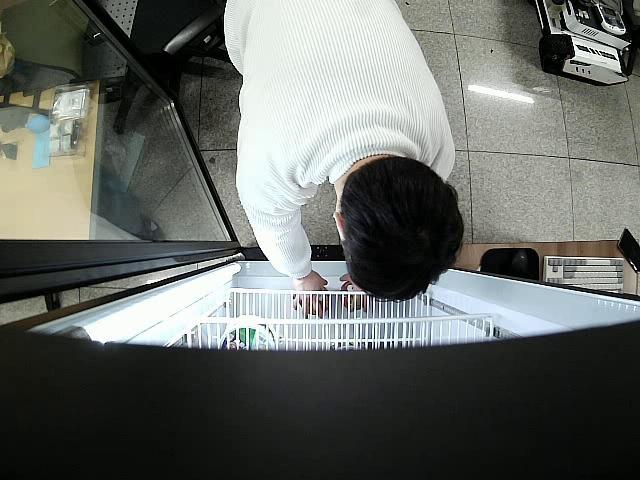06_nuguri_S: (294, 287, 328, 317), (341, 282, 363, 309)
